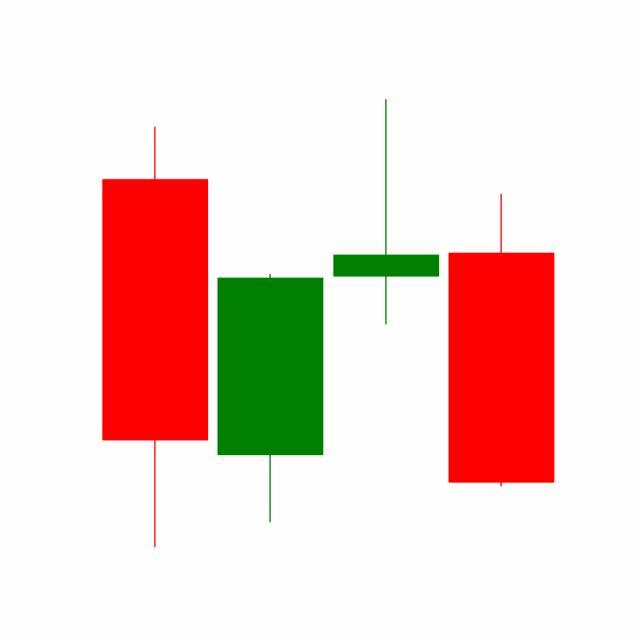Evening Doji Star: (211, 99, 555, 527)
